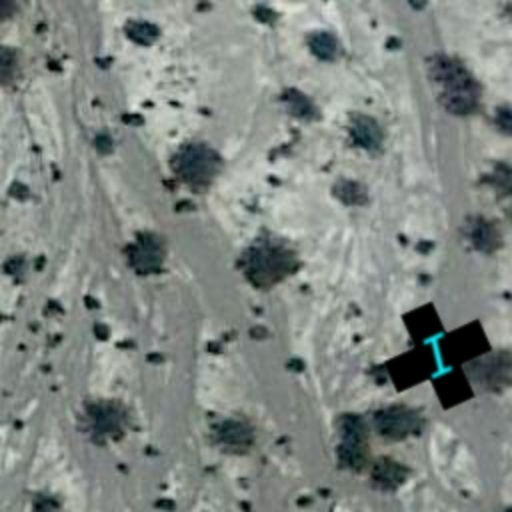cross: (368, 286, 508, 426)
